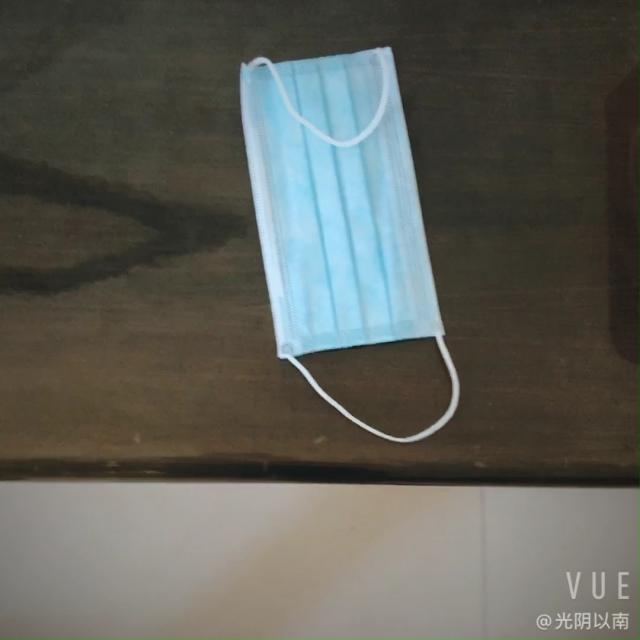non-organic waste: (244, 52, 467, 400)
